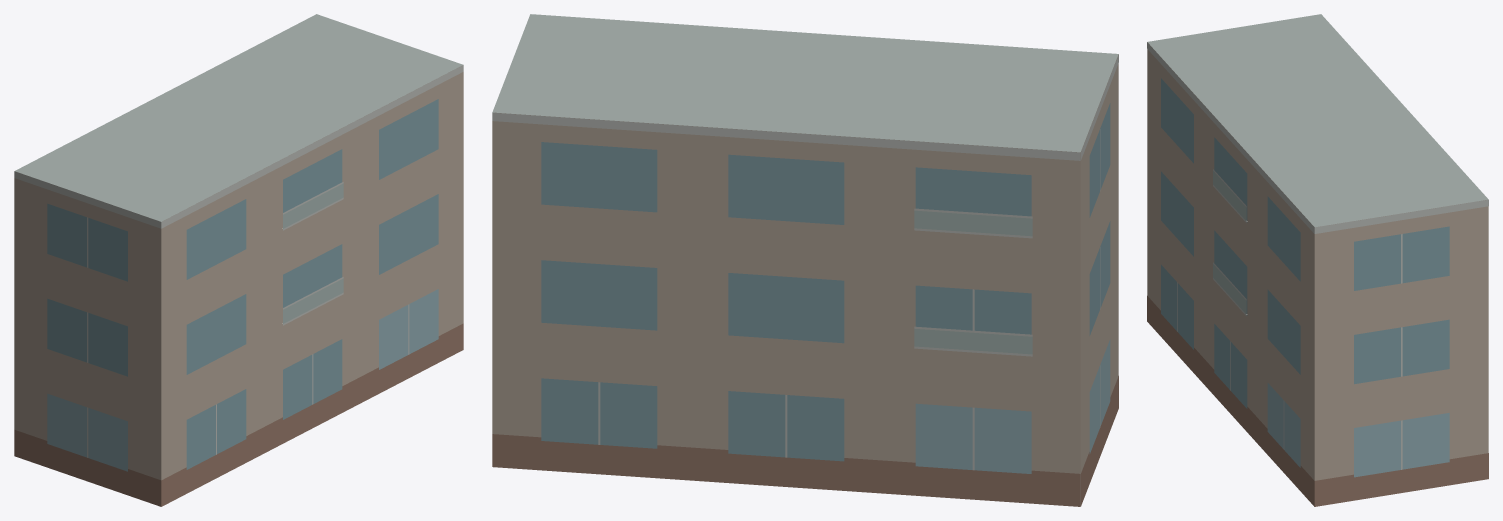
Rendered from survey-upis-32710143.glb.
3 renders of one model, left to right at view 1: azimuth 30°, elevation 25°; view 2: azimuth 150°, elevation 25°; view 3: azimuth 270°, elevation 25°, orthographic. The views are drawn at different scales.
Parts seen in each view (by area): view 1: survey-upis-32710143.tmp; view 2: survey-upis-32710143.tmp; view 3: survey-upis-32710143.tmp.
Part boxes in pixels (<box>): survey-upis-32710143.tmp: <box>14,14,463,506</box>; survey-upis-32710143.tmp: <box>492,14,1118,506</box>; survey-upis-32710143.tmp: <box>1147,14,1488,506</box>.
Size of the model in its own units: 16.54 by 10.1 by 11.2.
